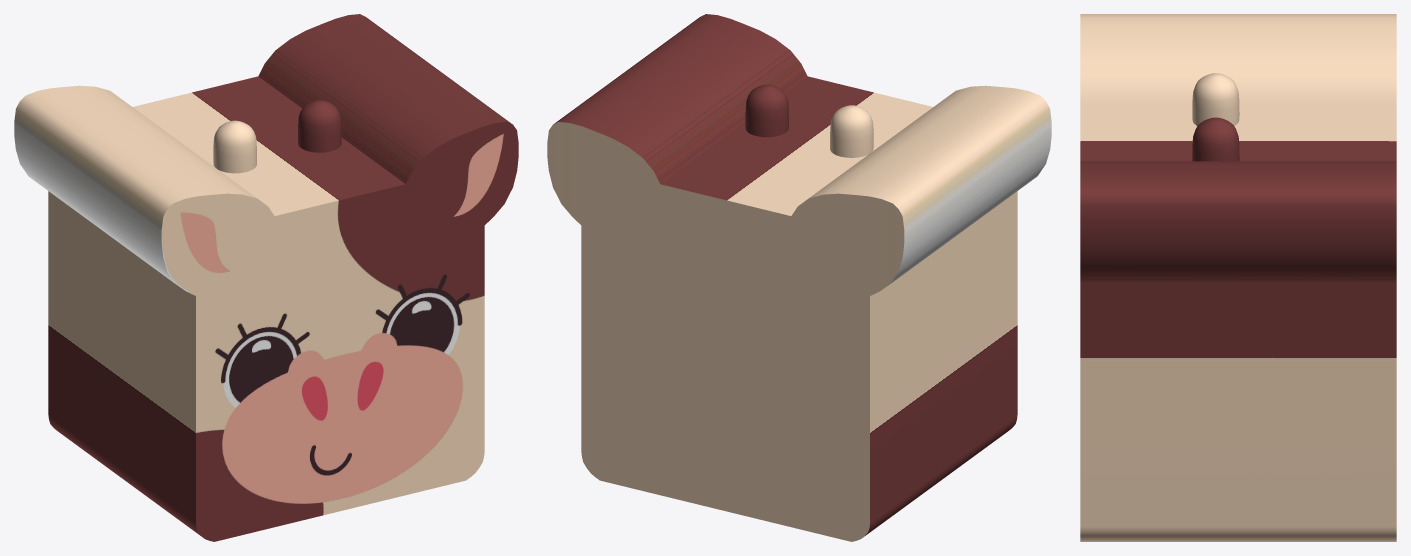
The model's file is Cow.fbx.
3 renders of one model, left to right at view 1: azimuth 30°, elevation 25°; view 2: azimuth 150°, elevation 25°; view 3: azimuth 270°, elevation 25°, orthographic. The views are drawn at different scales.
Visible parts, largest first — view 1: Cow; view 2: Cow; view 3: Cow.
Part boxes in pixels (left/top/right/bottom): Cow: left=14, top=14, right=518, bottom=541; Cow: left=547, top=14, right=1051, bottom=541; Cow: left=1080, top=14, right=1396, bottom=541.
Size of the model in its own units: 6.46 by 6.09 by 4.62.
Materials: 1 (1 with a texture image).
